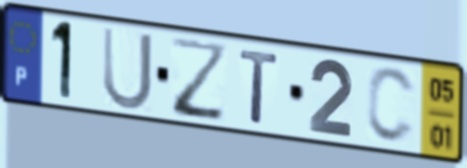1: (46, 18, 76, 106)
2: (307, 56, 357, 142)
C: (364, 64, 419, 147)
T: (238, 46, 282, 128)
U: (100, 23, 155, 113)
Z: (168, 35, 230, 126)
